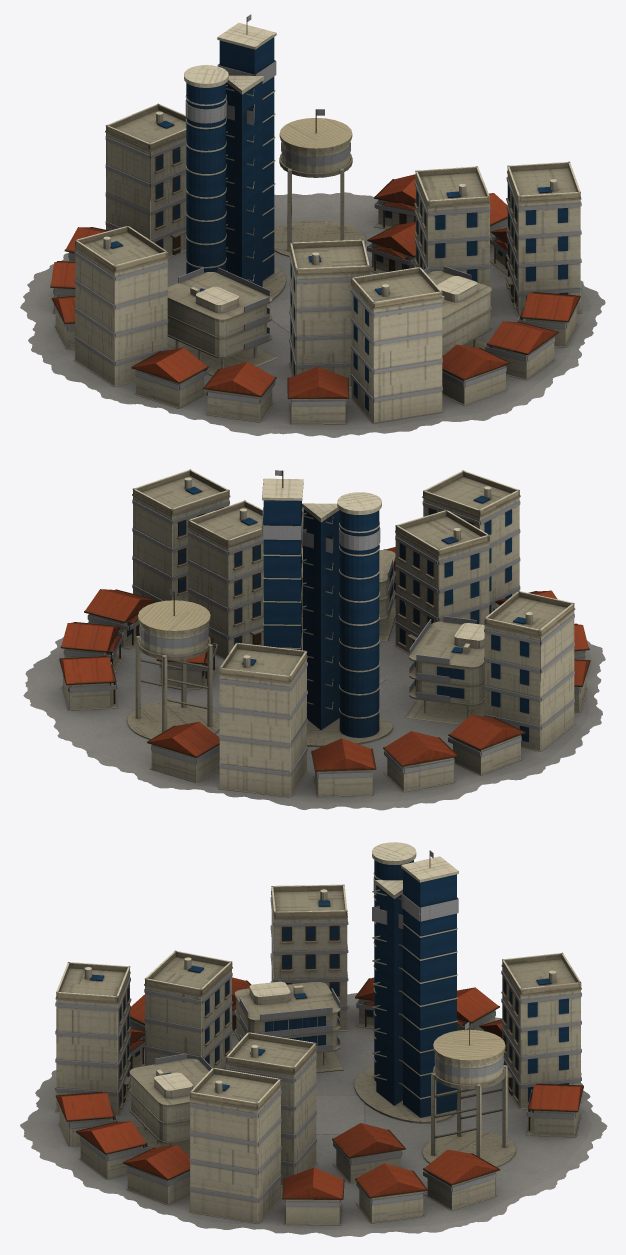
File: modern-town-big-a-israelite.glb
The picture shows the model from 3 angles, top to bottom: view 1: azimuth 30°, elevation 25°; view 2: azimuth 150°, elevation 25°; view 3: azimuth 270°, elevation 25°; orthographic projection.
Parts seen in each view (by area): view 1: LOD0; view 2: LOD0; view 3: LOD0.
Part boxes in pixels (x1=…): LOD0: x1=20, y1=14, x2=605, y2=437; LOD0: x1=23, y1=469, x2=605, y2=810; LOD0: x1=20, y1=842, x2=607, y2=1237.
Size of what is drawn, in the model's own units: 7.94 by 3.85 by 8.02.
Materials: 3 (3 with a texture image).
